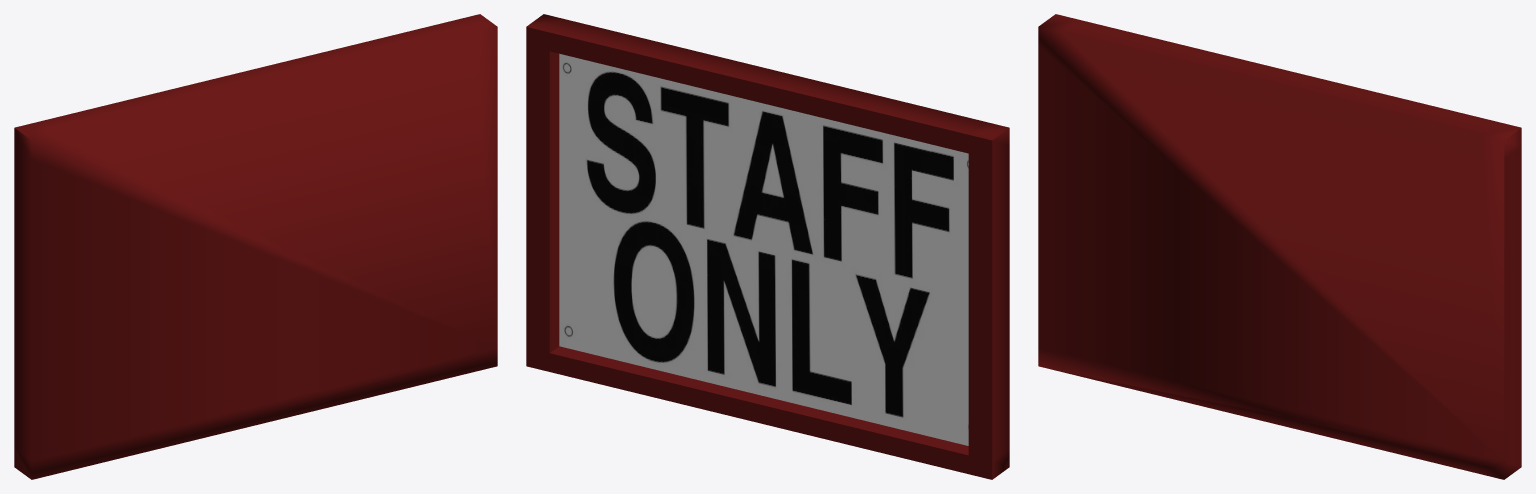
Rendered from Staff Only Sign.fbx.
3 views of the same model, side by side, from view 1: azimuth 30°, elevation 25°; view 2: azimuth 150°, elevation 25°; view 3: azimuth 330°, elevation 25° (orthographic).
Visible parts, largest first — view 1: Plane.063; view 2: Plane.063; view 3: Plane.063.
Part boxes in pixels (<box>): Plane.063: <box>14,14,497,479</box>; Plane.063: <box>526,14,1009,479</box>; Plane.063: <box>1038,14,1521,479</box>.
Size of the model in its own units: 51.69 by 35.99 by 3.37.
